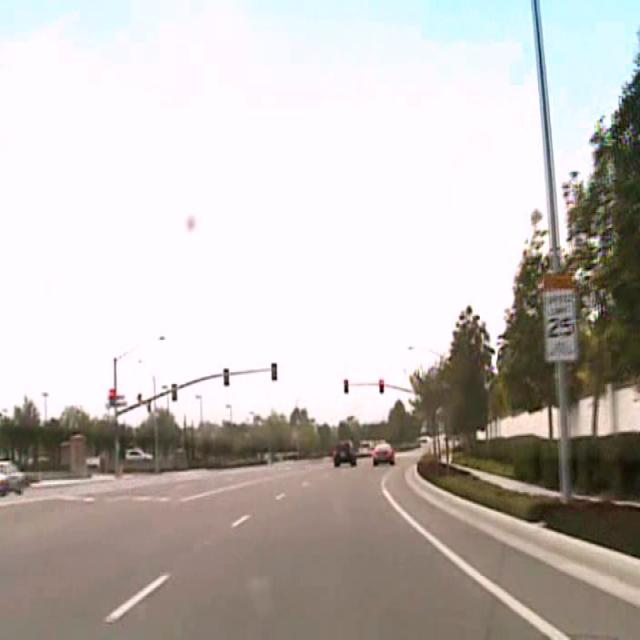speedLimit25: (544, 271, 577, 361)
